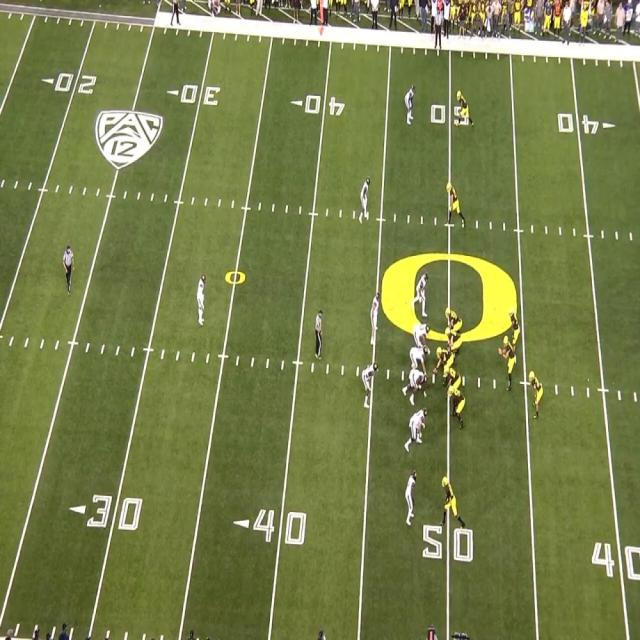center: (432, 347, 454, 379)
db: (404, 471, 418, 528), (360, 178, 372, 222), (404, 86, 416, 123), (196, 274, 205, 320)
lb: (407, 407, 426, 446), (360, 364, 377, 400), (414, 270, 428, 313), (370, 292, 381, 342)
qb: (497, 333, 519, 388)
